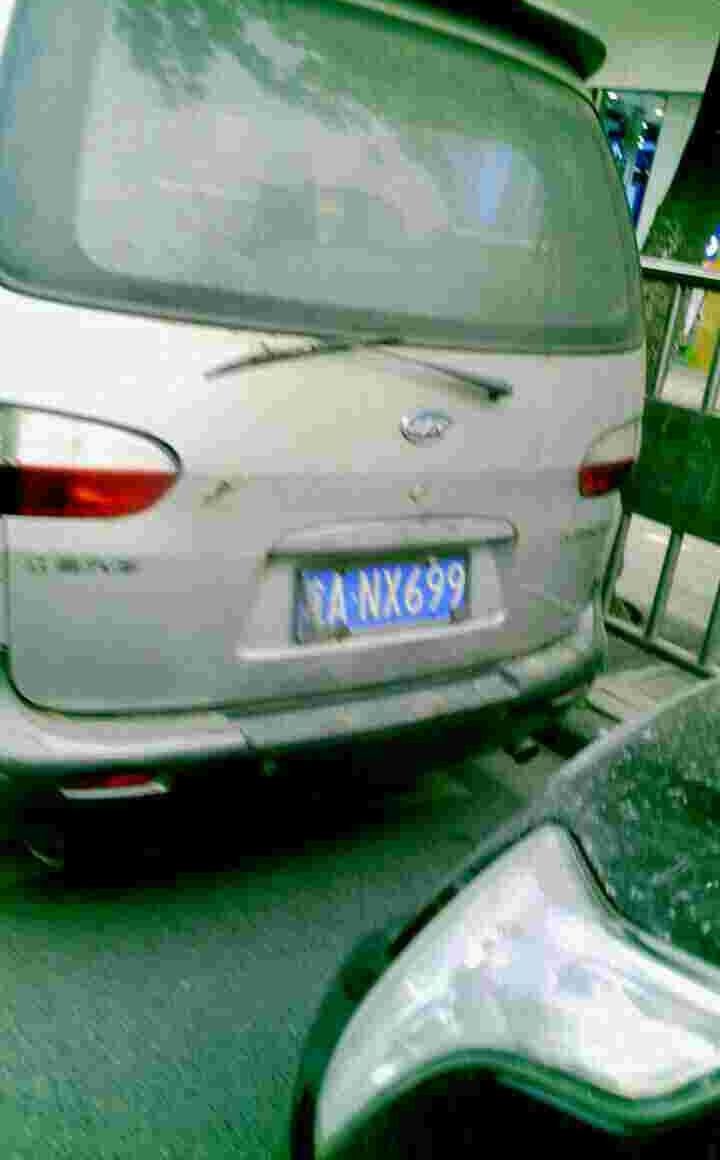license_plate: (307, 557, 474, 637)
